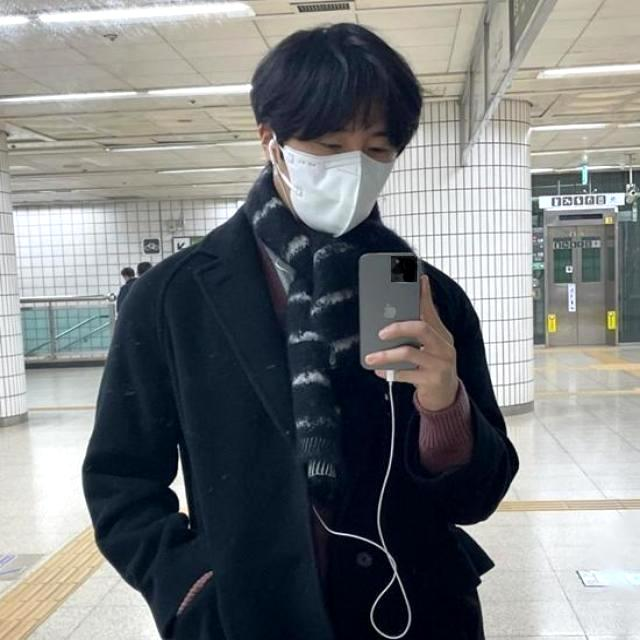lens_back: (401, 270, 415, 284), (391, 261, 402, 274), (404, 259, 415, 271)
phone: (359, 248, 426, 373)
